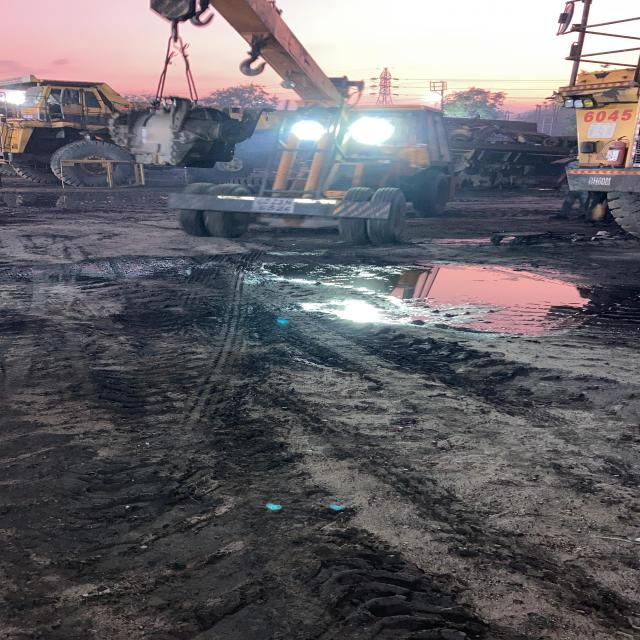dump_truck: (69, 0, 449, 250)
